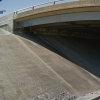Bridge: (7, 2, 93, 44)
